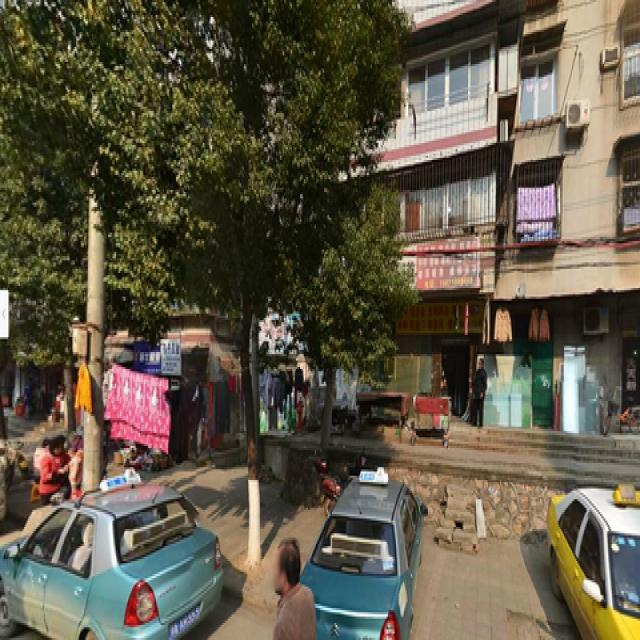cinn: (145, 21, 348, 514)
